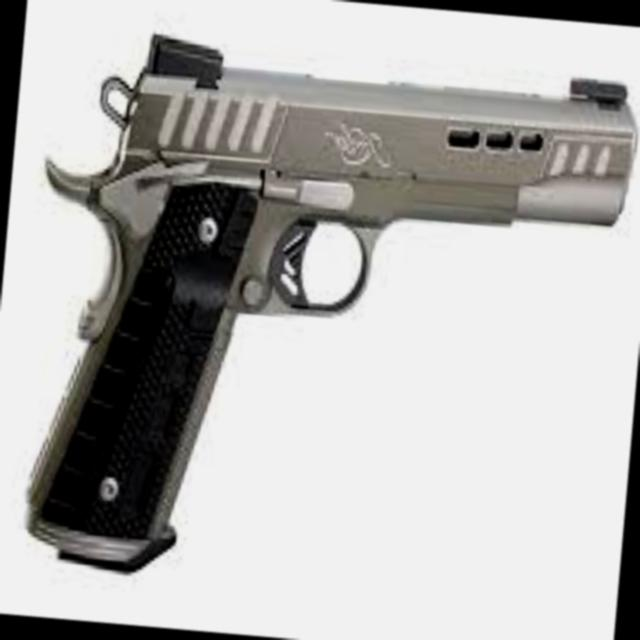semi automatic: (4, 17, 640, 622)
